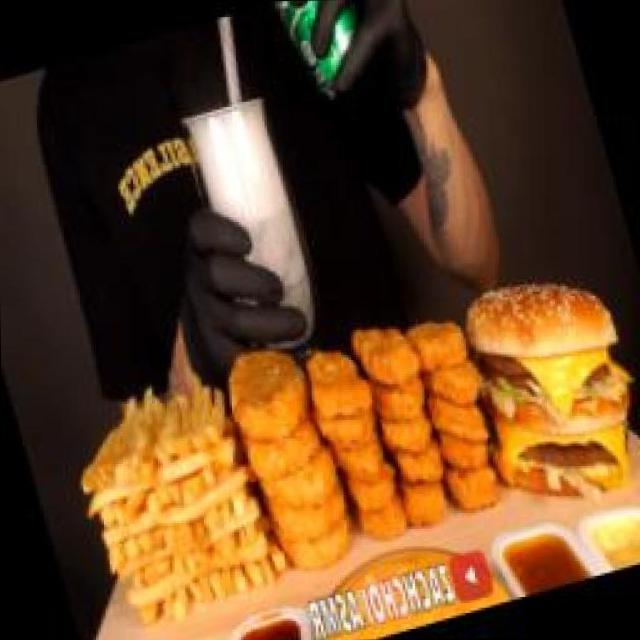Hashbrown: (200, 298, 375, 604)
burger: (438, 241, 640, 522)
french fries: (45, 337, 290, 640)
nugget: (284, 278, 530, 570)
sprite: (158, 64, 338, 350)
